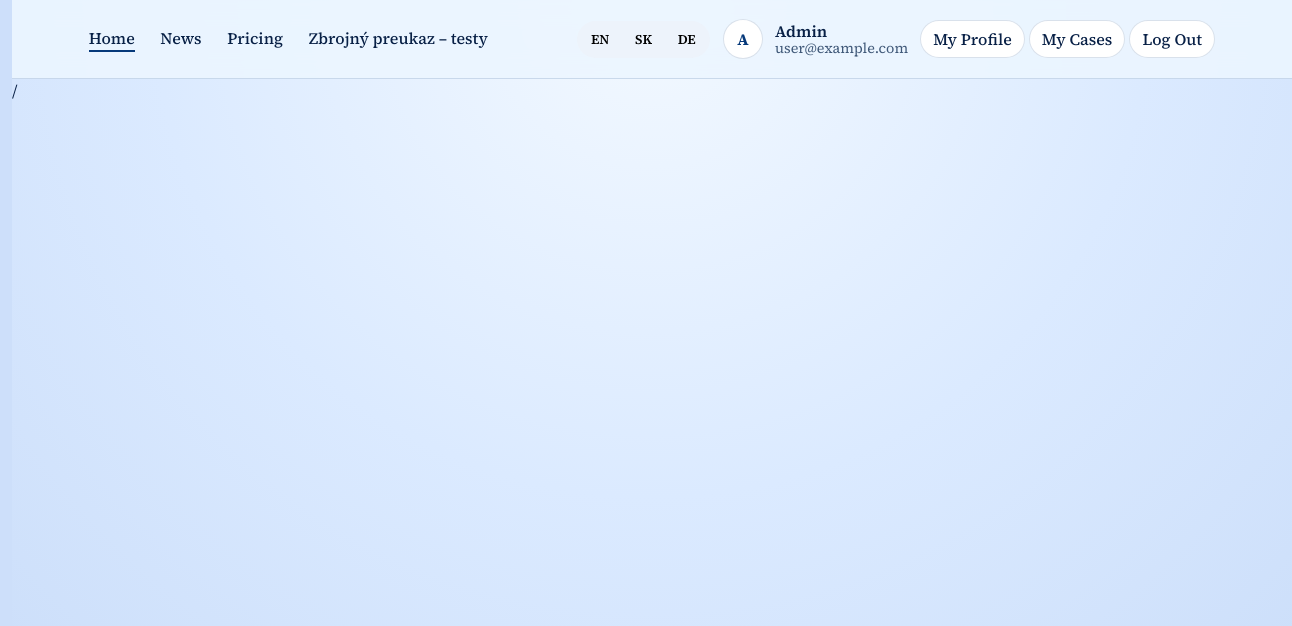
Navigation profile actions › navigates to /profile when My Profile is clicked
This screenshot has width=1292, height=626.
Expected: the text with test id "current-path" reads "/", [12,79,18,101]
Step 1. Click the button "My Profile" → click(973, 39), box [920,20,1025,58]
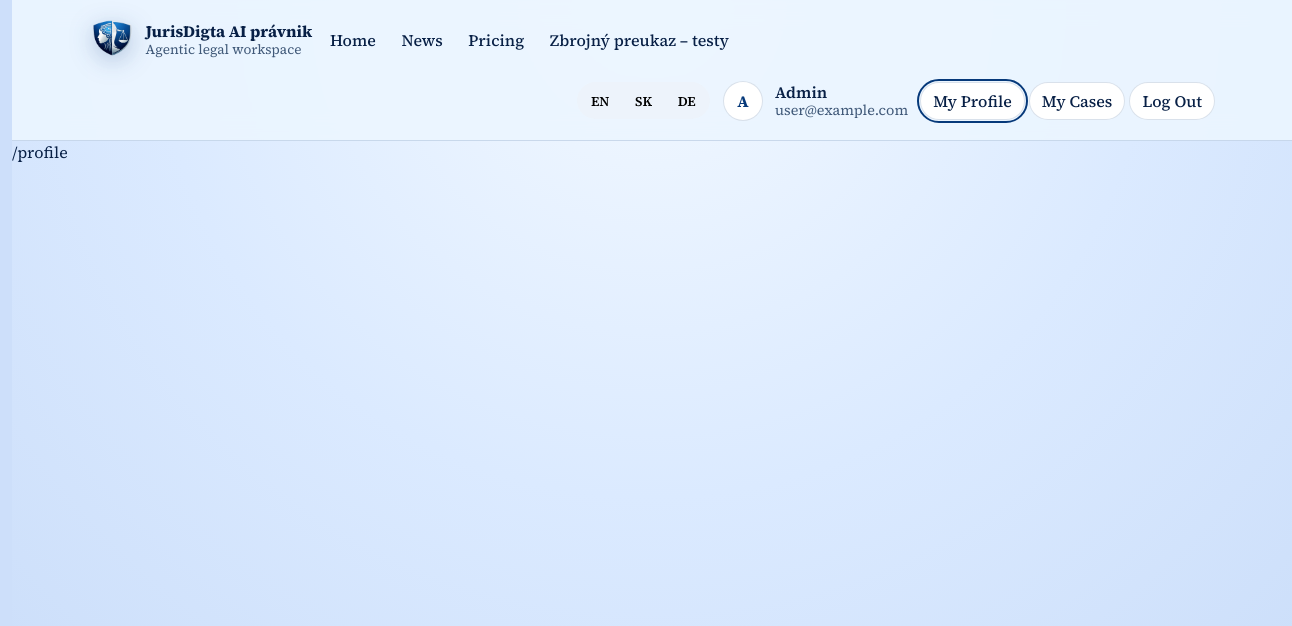
Result: the text with test id "current-path" reads "/profile" at [12,141,68,163]
